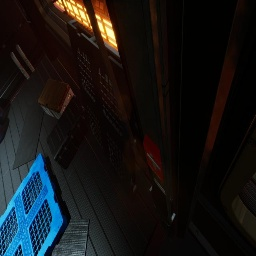FireAlarm ,: (143, 134, 164, 183)
